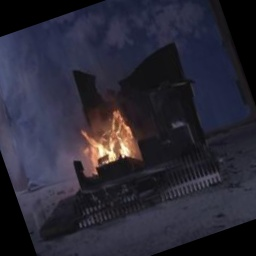fire: (71, 97, 152, 176)
